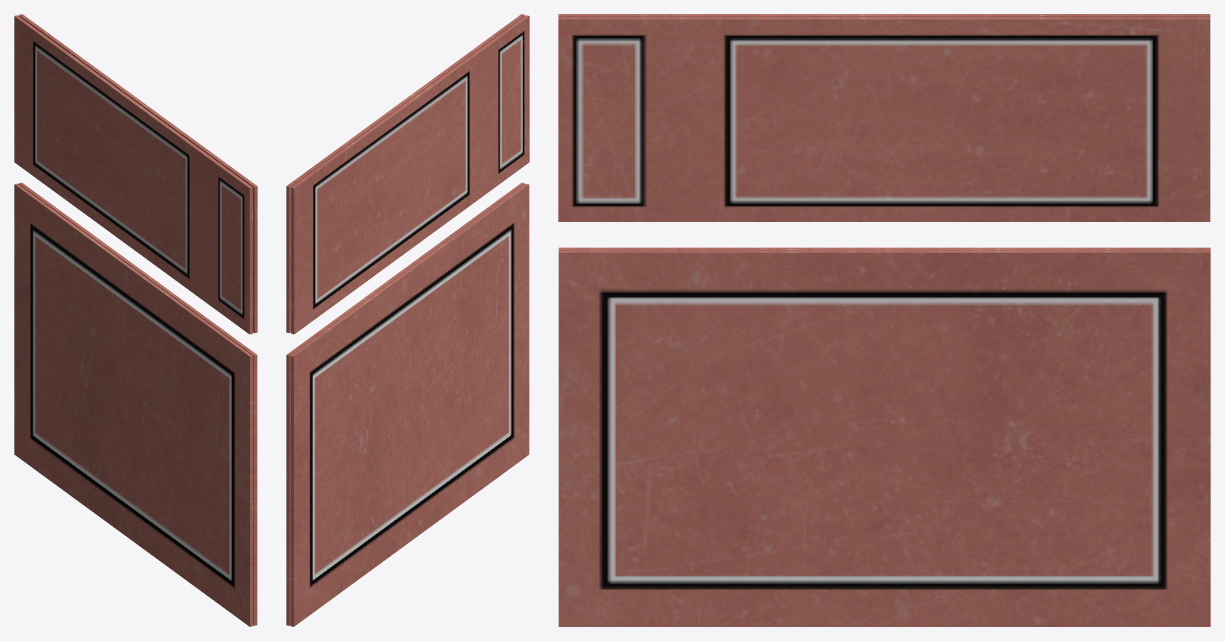
Rendered from SM_SJJ_HG_Wall06G.fbx.
3 renders of one model, left to right at view 1: azimuth 30°, elevation 25°; view 2: azimuth 150°, elevation 25°; view 3: azimuth 270°, elevation 25°, orthographic. The views are drawn at different scales.
Visible parts, largest first — view 1: SM_SJJ_HG_Wall06G; view 2: SM_SJJ_HG_Wall06G; view 3: SM_SJJ_HG_Wall06G.
Part boxes in pixels (x1,y1,x2,y2): SM_SJJ_HG_Wall06G: [14, 14, 257, 626]; SM_SJJ_HG_Wall06G: [286, 14, 529, 626]; SM_SJJ_HG_Wall06G: [558, 14, 1210, 626].
Bounding box in the file's own units: 5.59 × 280 × 288.
Materials: 1 (1 with a texture image).
